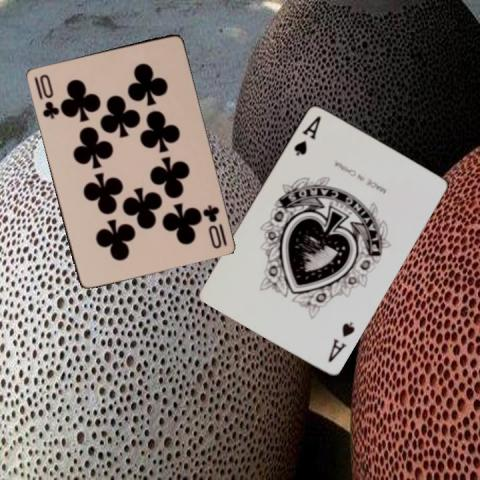10c: (31, 71, 60, 120), (199, 201, 228, 250)
As: (290, 112, 322, 157), (325, 318, 356, 364)
